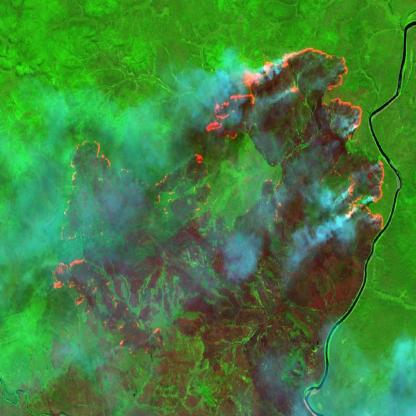fire: (43, 42, 387, 362)
